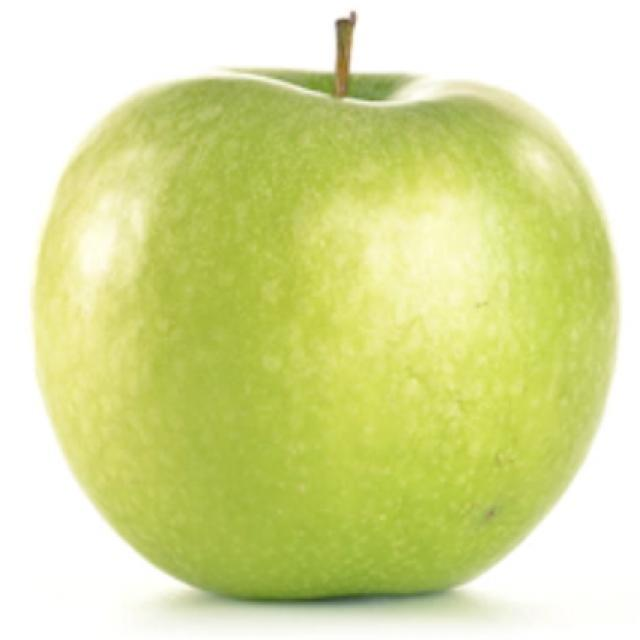Fresh Apple: (53, 69, 610, 598)
